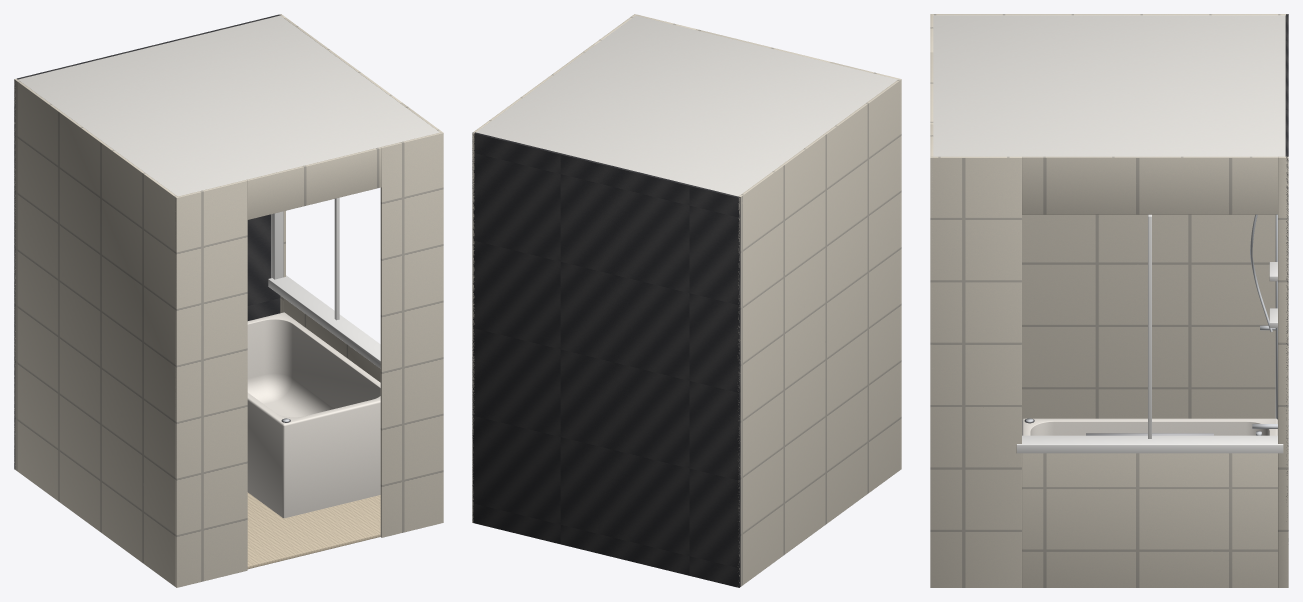
The model's file is ub-bath.glb.
3 renders of one model, left to right at view 1: azimuth 30°, elevation 25°; view 2: azimuth 150°, elevation 25°; view 3: azimuth 270°, elevation 25°, orthographic. The views are drawn at different scales.
Visible parts, largest first — view 1: Hero_UbWall_W, Hero_UbCeiling, Hero_UbWall_N_w, Hero_UbWall_N_e, Hero_UbTub, Hero_UbFloor, Hero_UbWall_N_head, Hero_UbWall_S, Hero_UbWindowReveal_sill, Hero_UbWall_E_sill, Hero_UbWall_E_n, Hero_UbWindowReveal_s (+1 smaller); view 2: Hero_UbWall_S, Hero_UbWall_W, Hero_UbCeiling, Hero_UbWall_N_w, Hero_UbWall_E_s; view 3: Hero_UbWall_W, Hero_UbCeiling, Hero_UbWall_E_n, Hero_UbWall_E_sill, Hero_UbWall_E_head, Hero_UbWindowReveal_sill, Hero_UbWall_E_s, Hero_UbTub, Hero_UbWindowReveal_mullion, Hero_UbWall_S, Hero_UbShower_bar.
Part boxes in pixels (x1,y1,x2,y2): Hero_UbWall_W: [14, 78, 178, 587]; Hero_UbCeiling: [18, 15, 439, 196]; Hero_UbWall_N_w: [175, 179, 247, 587]; Hero_UbWall_N_e: [380, 132, 443, 537]; Hero_UbTub: [247, 312, 380, 518]; Hero_UbFloor: [247, 492, 380, 569]; Hero_UbWall_N_head: [247, 147, 381, 219]; Hero_UbWall_S: [14, 14, 280, 469]; Hero_UbWindowReveal_sill: [268, 275, 380, 368]; Hero_UbWall_E_sill: [284, 298, 380, 382]; Hero_UbWall_E_n: [400, 102, 443, 522]; Hero_UbWindowReveal_s: [271, 211, 283, 279]; Hero_UbWall_S: [472, 132, 740, 587]; Hero_UbWall_W: [737, 78, 901, 587]; Hero_UbCeiling: [476, 15, 897, 196]; Hero_UbWall_N_w: [829, 62, 901, 469]; Hero_UbWall_E_s: [472, 129, 478, 522]; Hero_UbWall_W: [930, 14, 1287, 419]; Hero_UbCeiling: [933, 15, 1285, 156]; Hero_UbWall_E_n: [930, 156, 1021, 587]; Hero_UbWall_E_sill: [1022, 453, 1277, 587]; Hero_UbWall_E_head: [1022, 156, 1277, 214]; Hero_UbWindowReveal_sill: [1016, 435, 1283, 453]; Hero_UbWall_E_s: [1278, 156, 1288, 587]; Hero_UbTub: [1022, 418, 1277, 435]; Hero_UbWindowReveal_mullion: [1148, 214, 1151, 438]; Hero_UbWall_S: [1285, 14, 1288, 496]; Hero_UbShower_bar: [1275, 214, 1277, 419].
Size of the model in its own units: 1.61 by 2.23 by 1.68.
9 materials, 5 textured.
